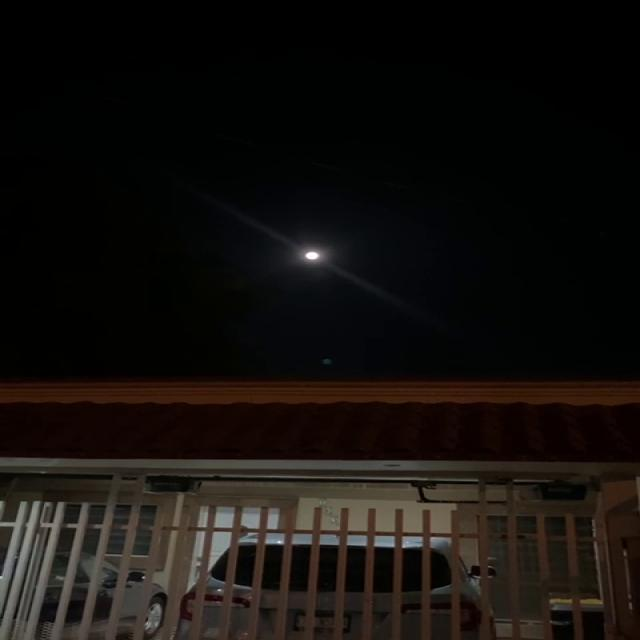moon: (294, 246, 336, 270)
